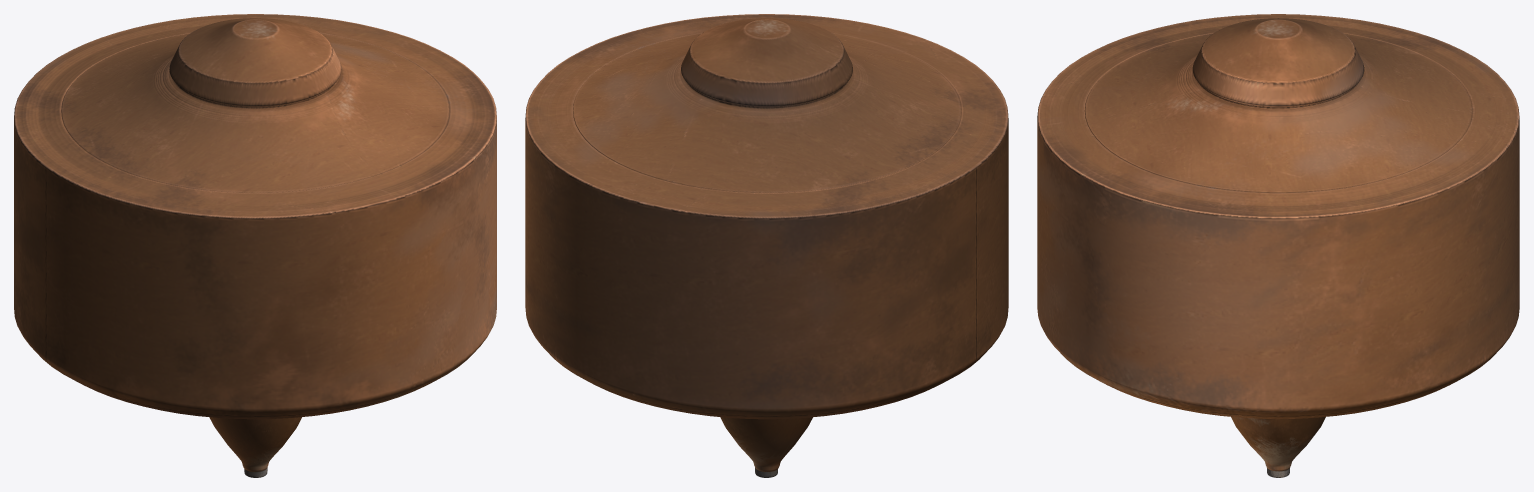
The model's file is gasing_pangkah.glb.
3 renders of one model, left to right at view 1: azimuth 30°, elevation 25°; view 2: azimuth 150°, elevation 25°; view 3: azimuth 270°, elevation 25°, orthographic.
Parts seen in each view (by area): view 1: Cylinder006_HP; view 2: Cylinder006_HP; view 3: Cylinder006_HP.
Part boxes in pixels (x1,y1,x2,y2): Cylinder006_HP: (14,14,496,471); Cylinder006_HP: (525,14,1008,471); Cylinder006_HP: (1037,14,1519,471).
Size of the model in its own units: 0.0999 by 0.1015 by 0.0997.
2 materials, 2 textured.
